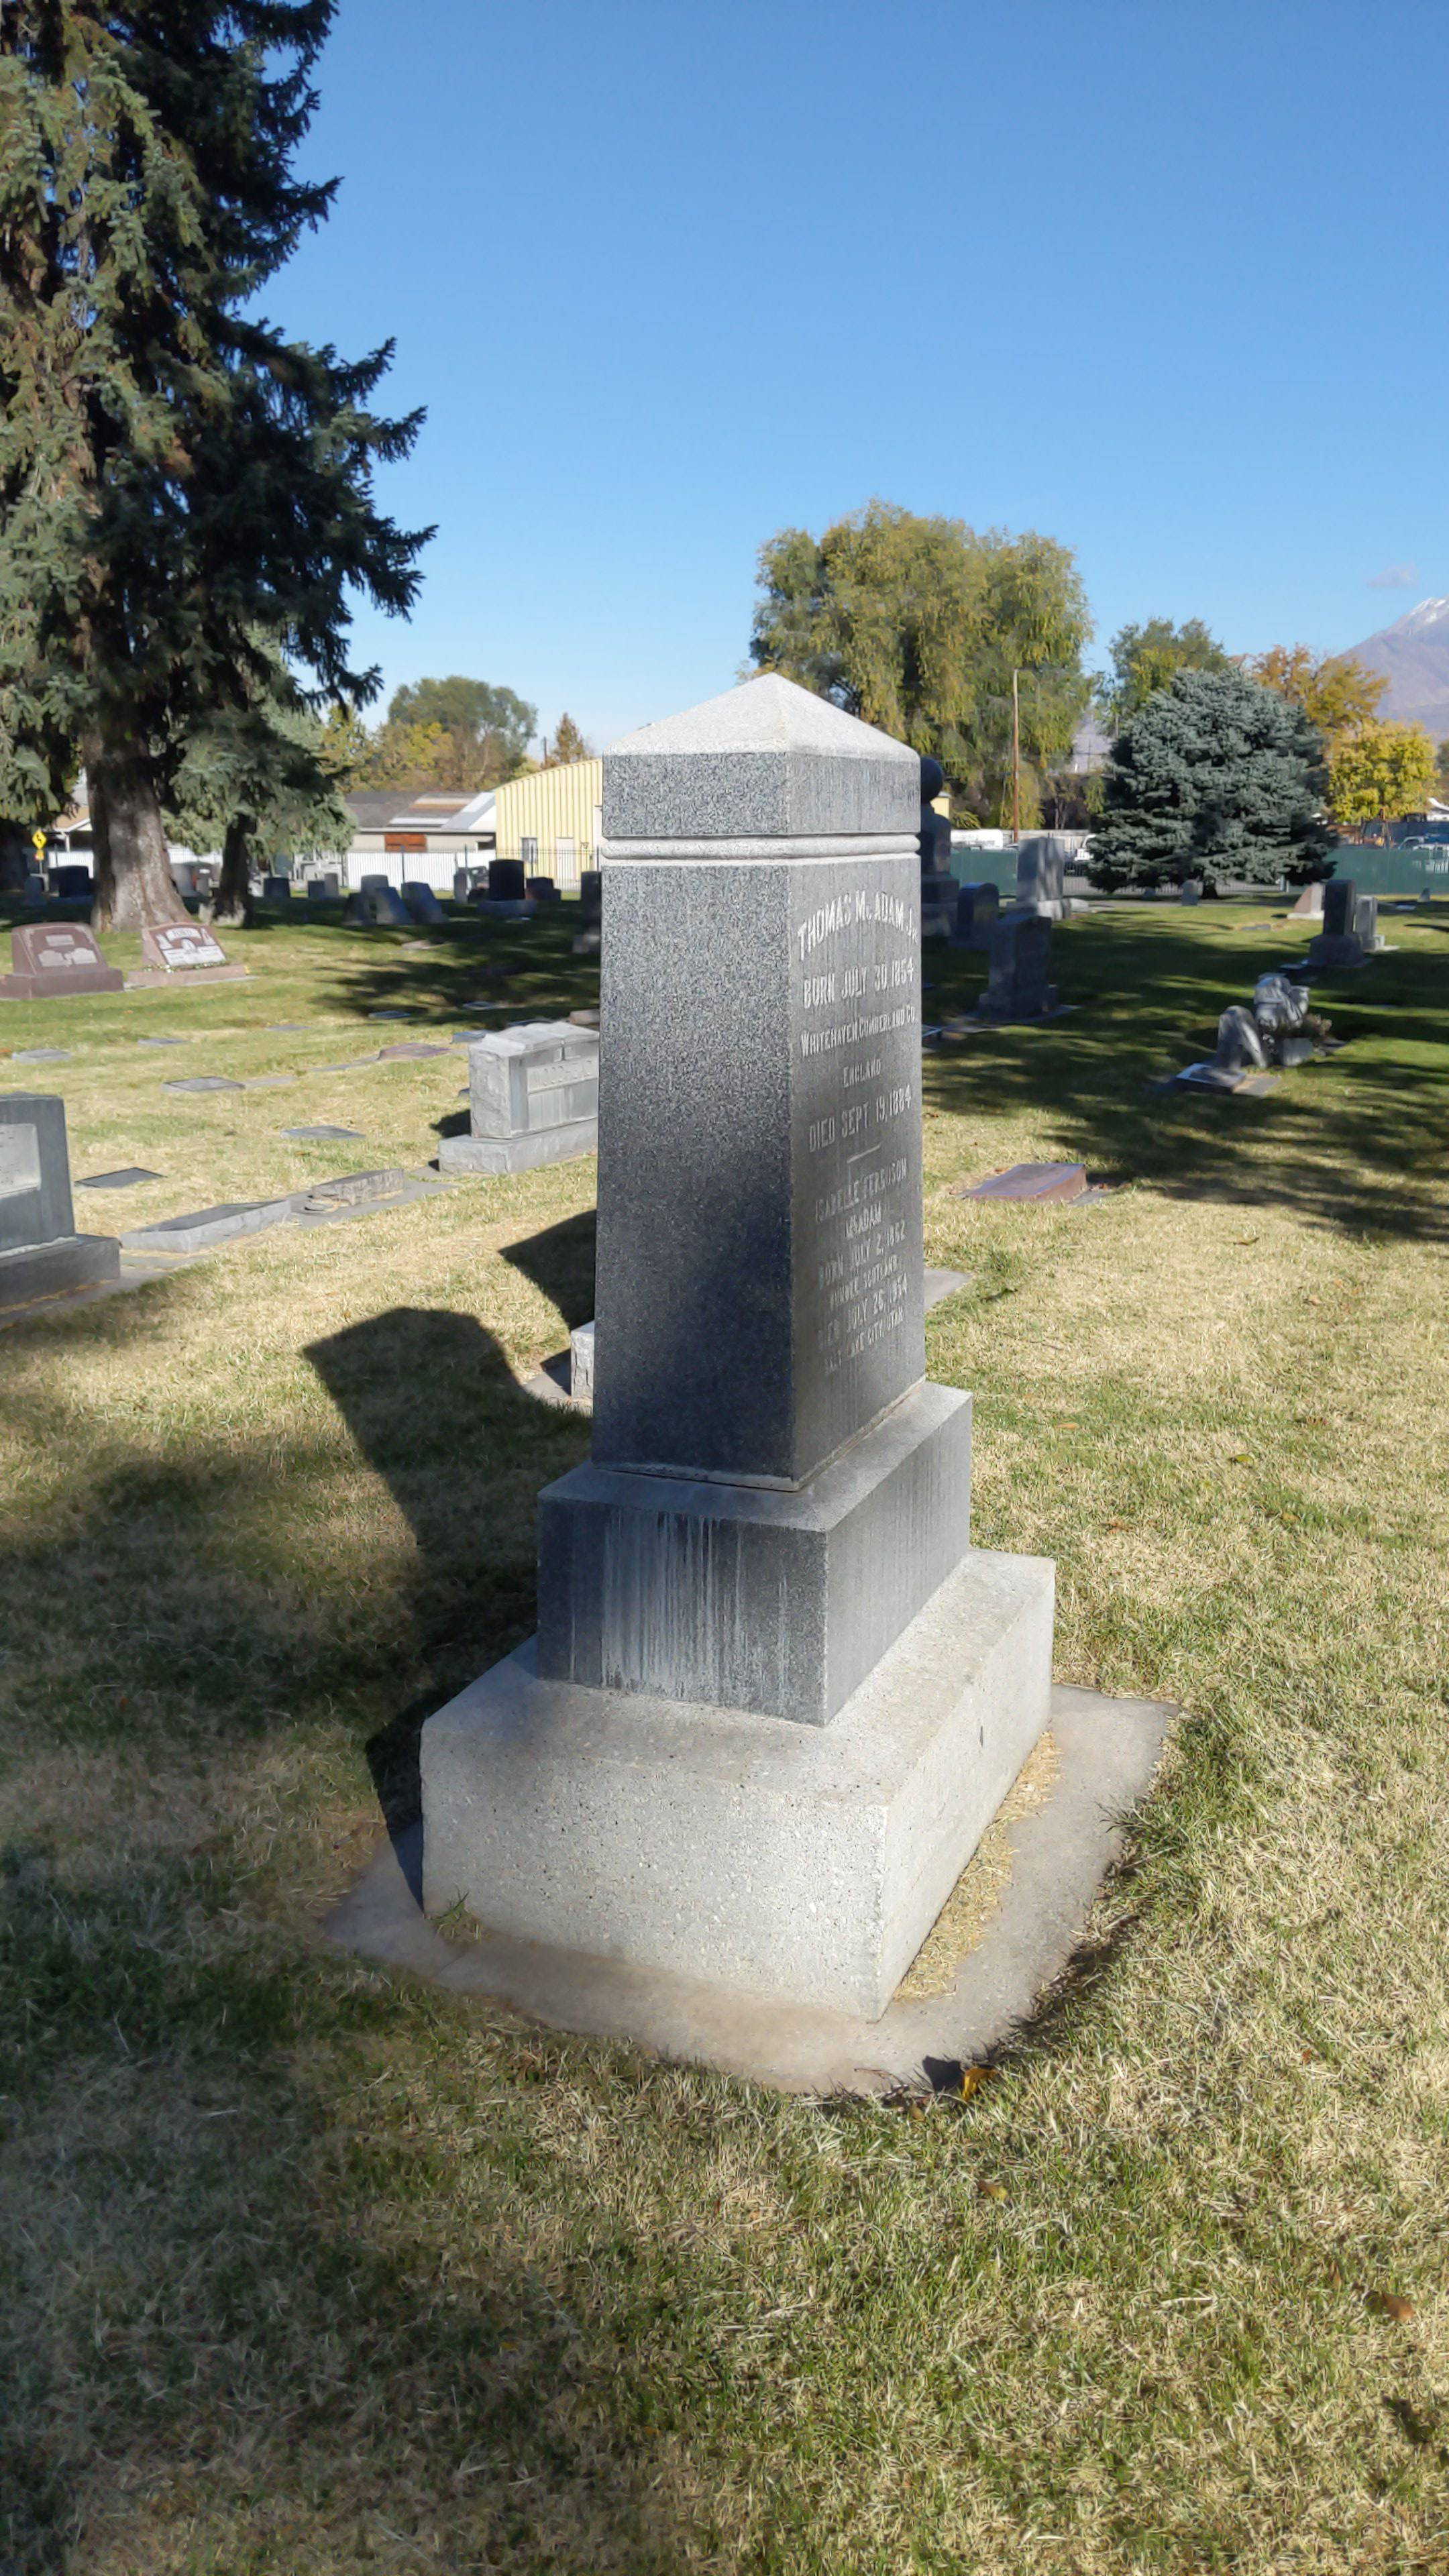obelisk: (570, 683, 966, 1714)
